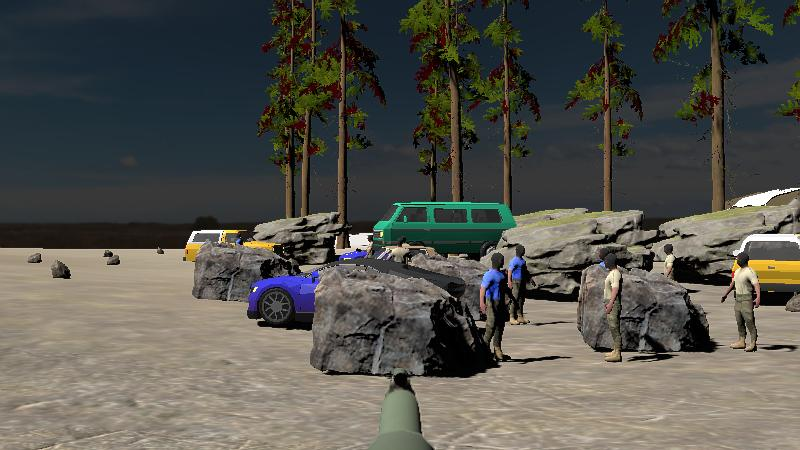Human: (718, 247, 765, 353), (718, 250, 764, 354), (476, 251, 513, 367), (504, 242, 537, 328), (658, 239, 682, 283)
car: (369, 199, 519, 257), (726, 232, 800, 296), (181, 227, 265, 266)
